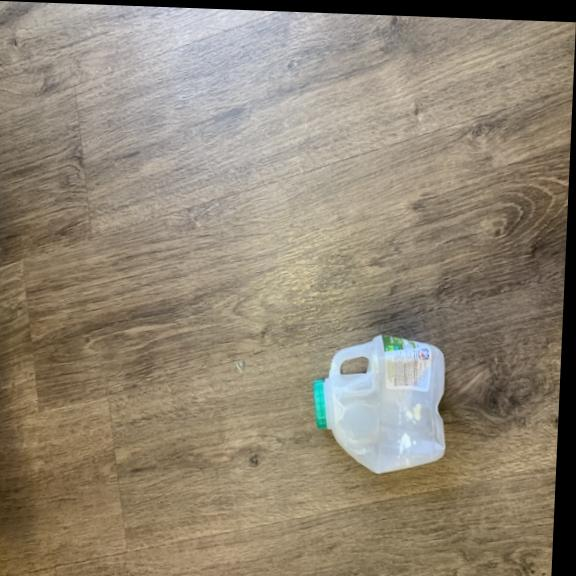Plastik: (306, 326, 454, 468)
